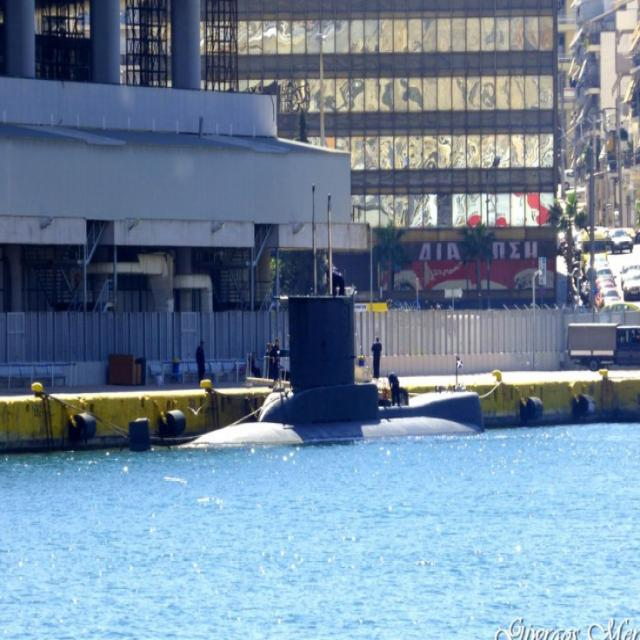submarine: (175, 290, 494, 452)
